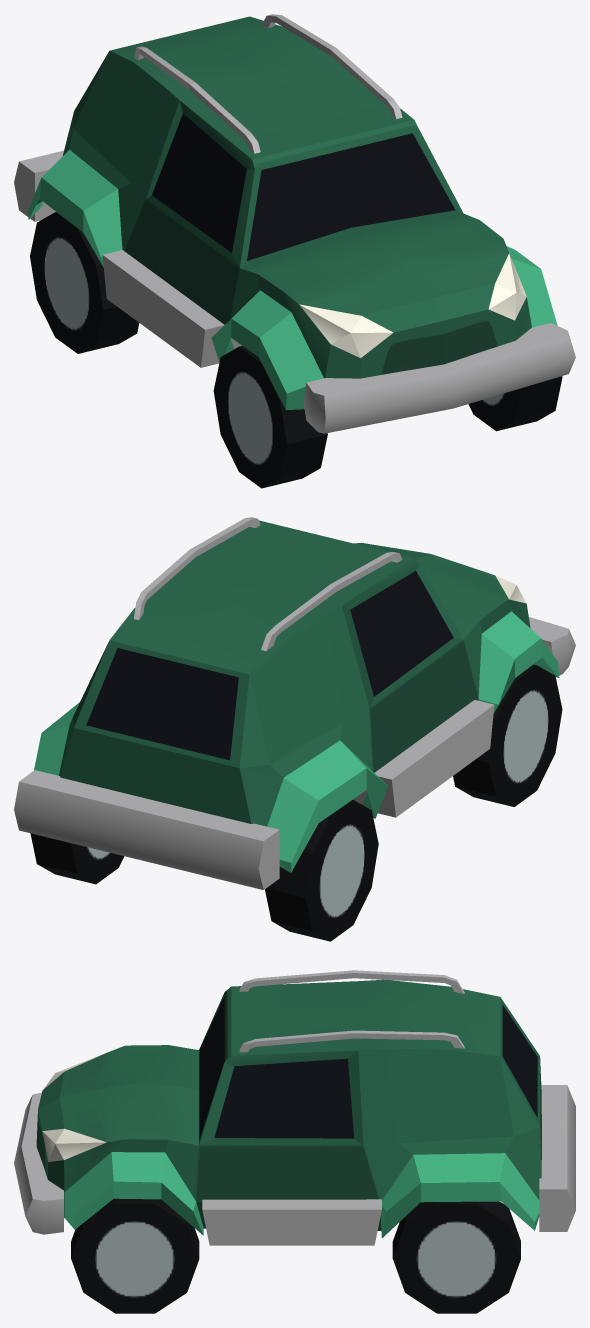
File: Car_4.fbx
3 renders of one model, top to bottom at view 1: azimuth 30°, elevation 25°; view 2: azimuth 150°, elevation 25°; view 3: azimuth 270°, elevation 25°, orthographic. The views are drawn at different scales.
Parts seen in each view (by area): view 1: wheel_4x4; view 2: wheel_4x4; view 3: wheel_4x4.
Part boxes in pixels (x1=…): wheel_4x4: x1=14, y1=14, x2=575, y2=488; wheel_4x4: x1=14, y1=517, x2=575, y2=941; wheel_4x4: x1=14, y1=970, x2=575, y2=1313.
Size of the model in its own units: 9.98 by 9.4 by 18.92.
Materials: 2 (2 with a texture image).
